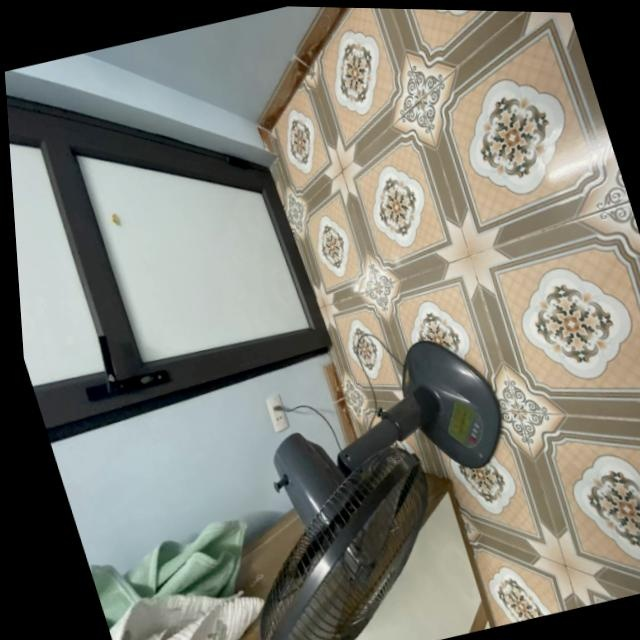outlet: (263, 393, 290, 432)
